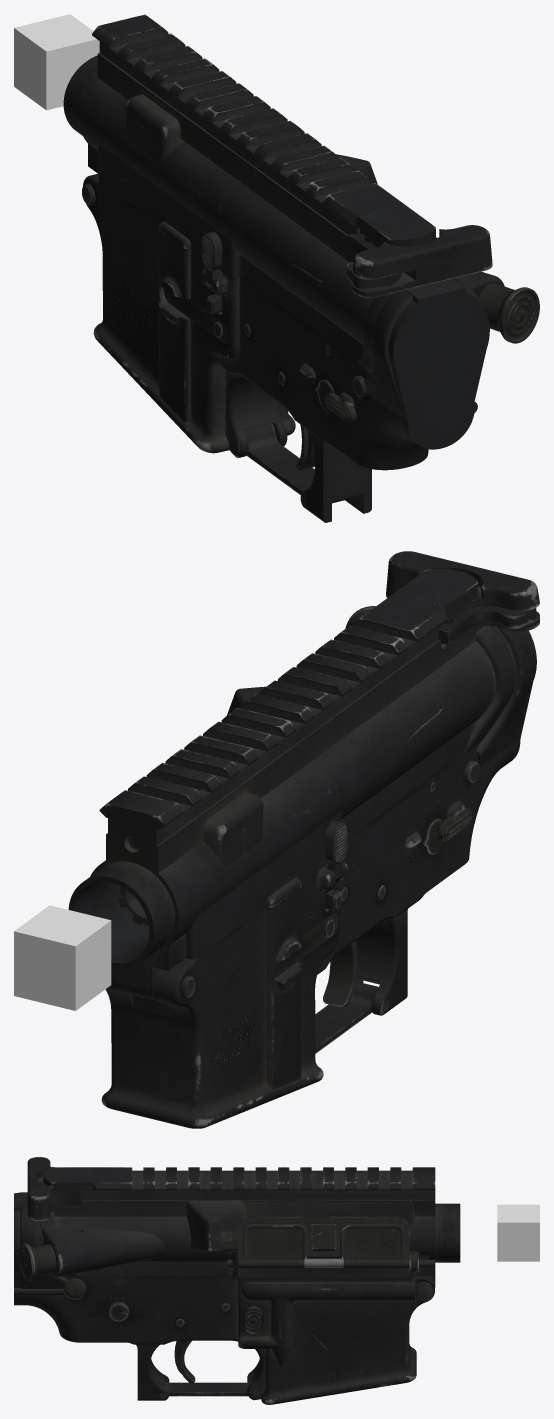
Rendered from AR_15_receiver.glb.
3 renders of one model, top to bottom at view 1: azimuth 30°, elevation 25°; view 2: azimuth 150°, elevation 25°; view 3: azimuth 270°, elevation 25°, orthographic. The views are drawn at different scales.
Visible parts, largest first — view 1: M4_Body, M4_Charge_Handle, Cube, M4_Forward_Assist, M4_Bolt_Catch, M4_Mag_Catch, M4_Select_Fire; view 2: M4_Body, Cube, M4_Charge_Handle, M4_Trigger, M4_Bolt_Catch, M4_Mag_Catch, M4_Select_Fire; view 3: M4_Body, M4_Dust_Cover, Cube, M4_Charge_Handle, M4_Forward_Assist, M4_Trigger, M4_Mag_Catch, M4_Select_Fire.
Boxes of the visible parts, x1,y1,x2,y2 form: M4_Body: [63, 14, 504, 522]; M4_Charge_Handle: [346, 225, 492, 297]; Cube: [14, 14, 99, 110]; M4_Forward_Assist: [479, 283, 539, 343]; M4_Bolt_Catch: [202, 231, 222, 314]; M4_Mag_Catch: [164, 289, 228, 343]; M4_Select_Fire: [315, 379, 356, 423]; M4_Body: [68, 568, 536, 1128]; Cube: [14, 905, 111, 1010]; M4_Charge_Handle: [131, 551, 539, 849]; M4_Trigger: [323, 940, 357, 1007]; M4_Bolt_Catch: [325, 820, 347, 911]; M4_Mag_Catch: [273, 913, 338, 978]; M4_Select_Fire: [422, 807, 471, 854]; M4_Body: [14, 1167, 460, 1404]; M4_Dust_Cover: [238, 1217, 409, 1268]; Cube: [497, 1204, 539, 1261]; M4_Charge_Handle: [27, 1157, 81, 1220]; M4_Forward_Assist: [19, 1243, 56, 1281]; M4_Trigger: [174, 1340, 195, 1383]; M4_Mag_Catch: [245, 1305, 261, 1333]; M4_Select_Fire: [107, 1301, 129, 1322].
Size of the model in its own units: 6.39 by 11.28 by 24.61.
Materials: 2 (1 with a texture image).
